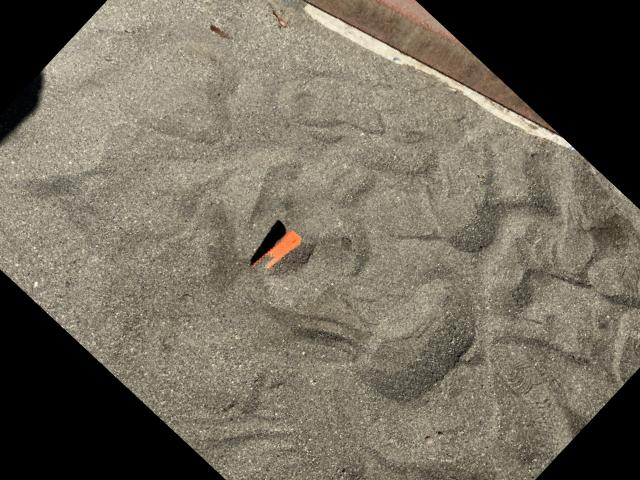hammer: (171, 202, 314, 349)
